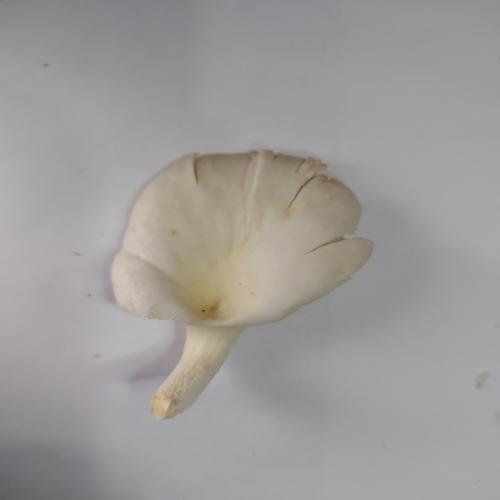Oyster Mushroom: (109, 148, 374, 421)
